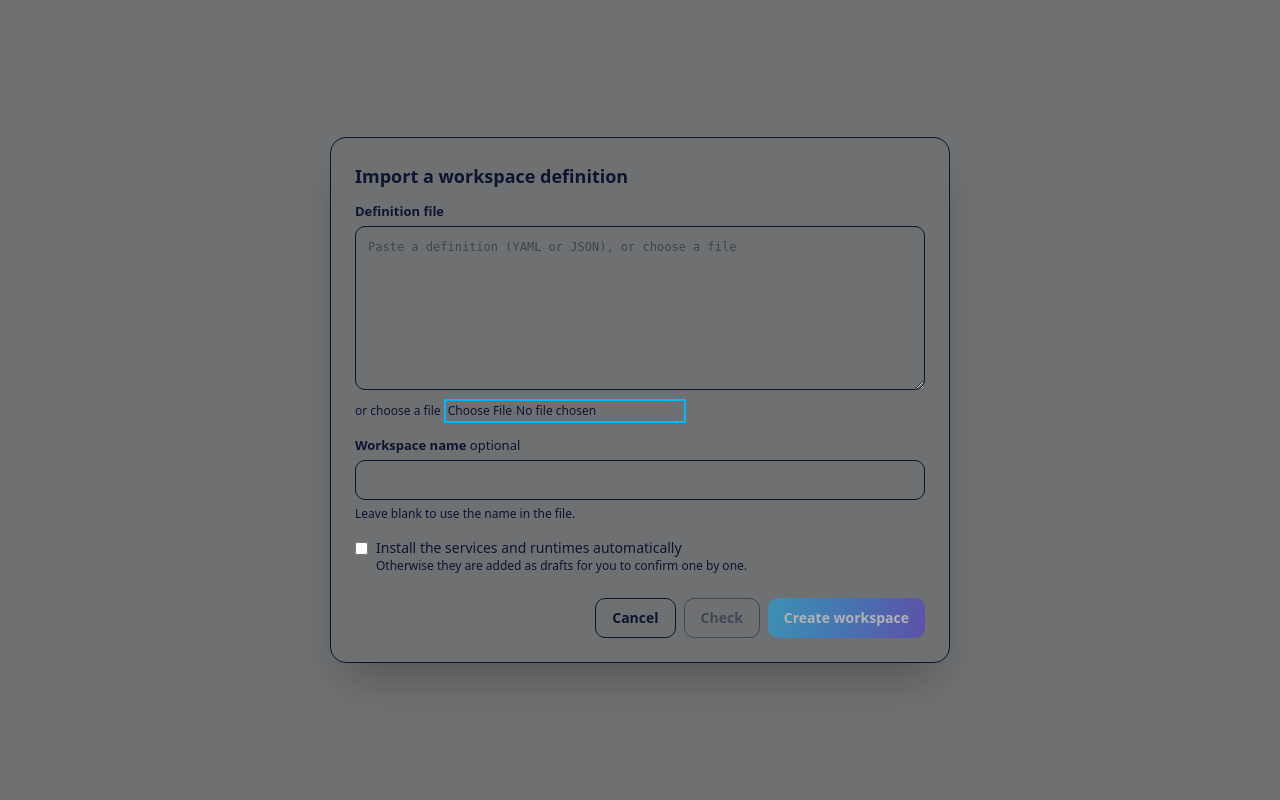
Test: ImportDefinitionDialog › reports a taken name on the name field
Type "x" into the text box labelled "Definition file" at (640, 308), box [355, 226, 925, 390]
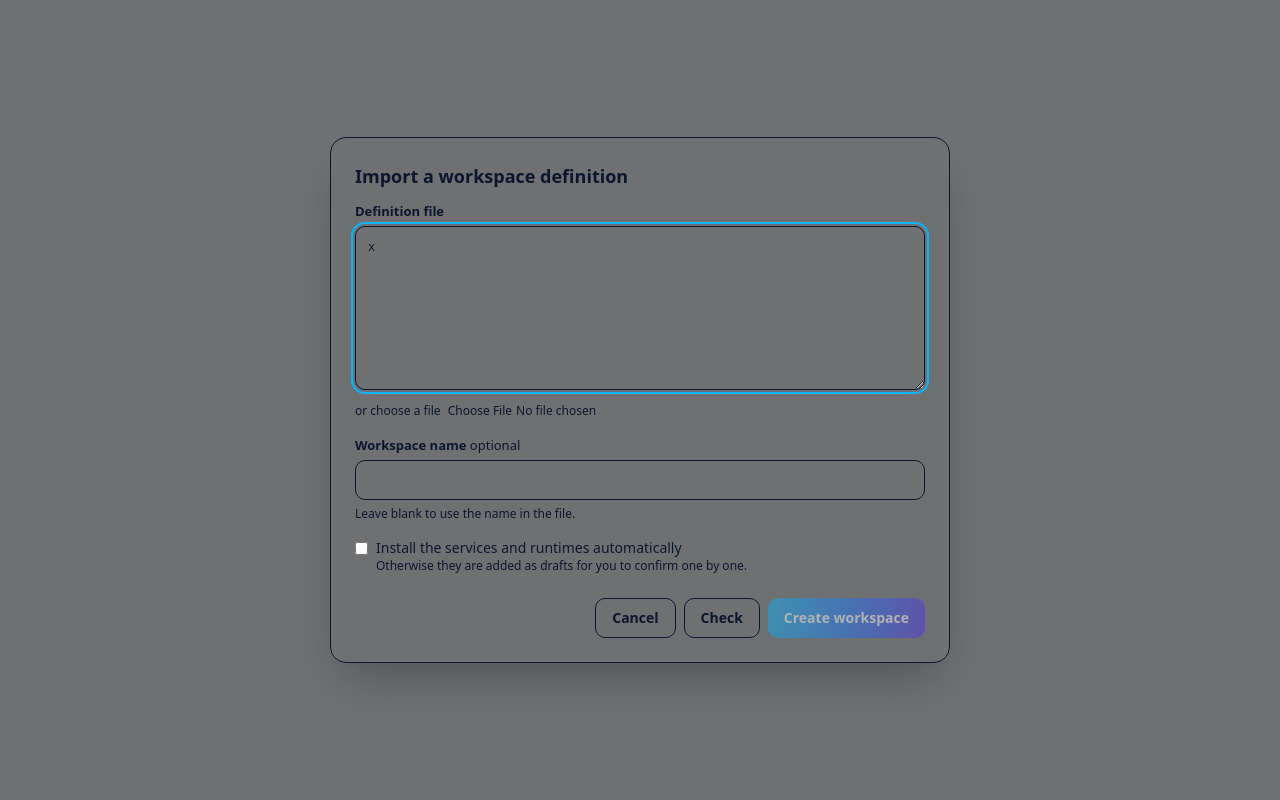
Click the button "Check" at (722, 618), box [684, 598, 760, 638]
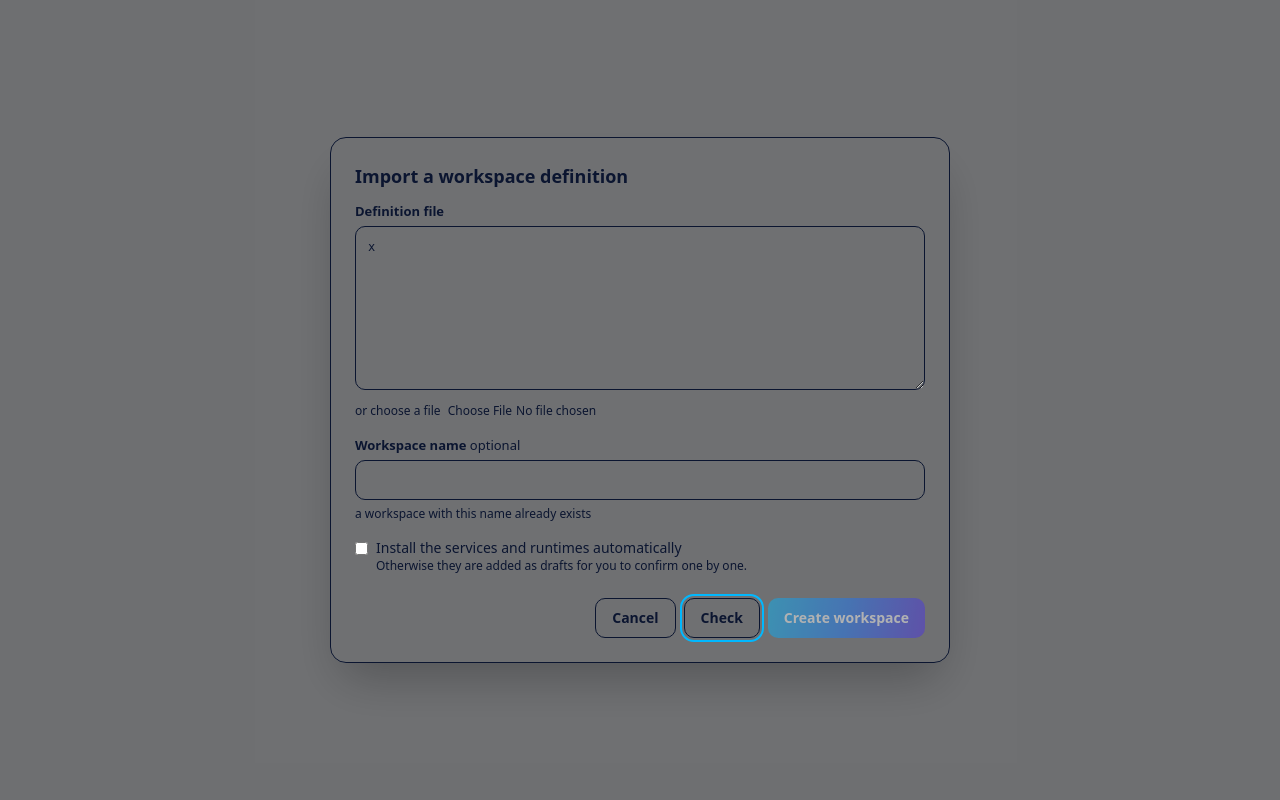
Result: the text "a workspace with this name already exists" is shown at [355, 505, 591, 522]
